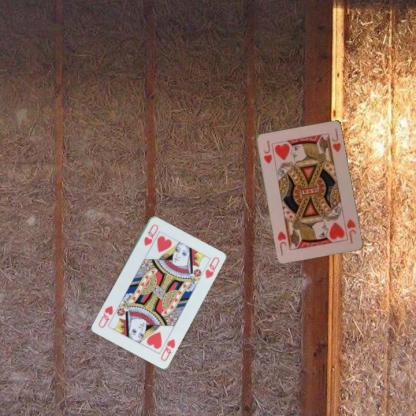Jh: (343, 216, 358, 244), (260, 138, 273, 164)
Qh: (141, 221, 159, 247), (158, 336, 176, 362)
